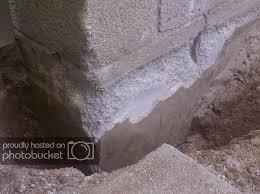spalling: (70, 6, 260, 143)
